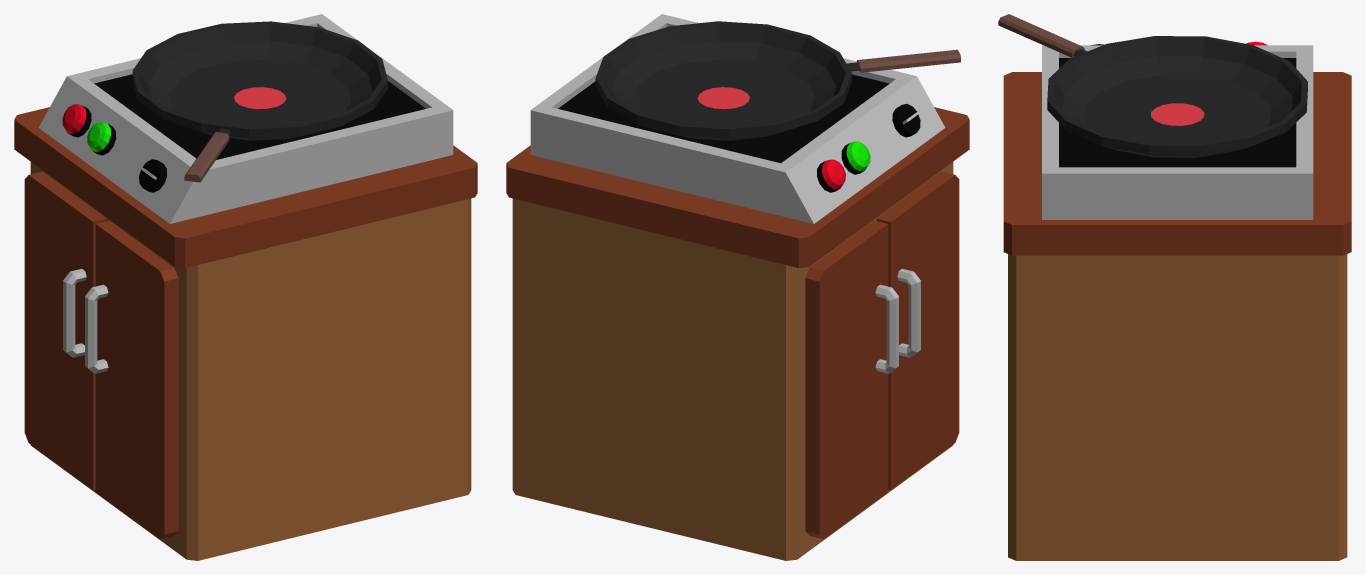
Rendered from Stove_Counter.fbx.
3 renders of one model, left to right at view 1: azimuth 30°, elevation 25°; view 2: azimuth 150°, elevation 25°; view 3: azimuth 270°, elevation 25°, orthographic. The views are drawn at different scales.
Visible parts, largest first — view 1: Counter_Base, Counter_Doors, Stove, Pan, Counter_Top, Counter_Handles; view 2: Counter_Base, Counter_Doors, Stove, Pan, Counter_Top, Counter_Handles; view 3: Counter_Base, Pan, Counter_Top, Stove.
Part boxes in pixels (x1=…): Counter_Base: x1=30, y1=162, x2=471, y2=560; Counter_Doors: x1=24, y1=171, x2=178, y2=539; Stove: x1=38, y1=14, x2=453, y2=223; Pan: x1=132, y1=21, x2=387, y2=182; Counter_Top: x1=14, y1=107, x2=477, y2=267; Counter_Handles: x1=63, y1=268, x2=108, y2=373; Counter_Base: x1=512, y1=162, x2=953, y2=560; Counter_Doors: x1=805, y1=171, x2=959, y2=539; Stove: x1=530, y1=14, x2=945, y2=223; Pan: x1=595, y1=21, x2=960, y2=140; Counter_Top: x1=506, y1=107, x2=969, y2=267; Counter_Handles: x1=875, y1=268, x2=920, y2=373; Counter_Base: x1=1008, y1=254, x2=1347, y2=560; Pan: x1=998, y1=14, x2=1307, y2=157; Counter_Top: x1=1003, y1=72, x2=1351, y2=255; Stove: x1=1042, y1=41, x2=1313, y2=219.
Size of the model in its own units: 1.13 by 1.31 by 1.04.
